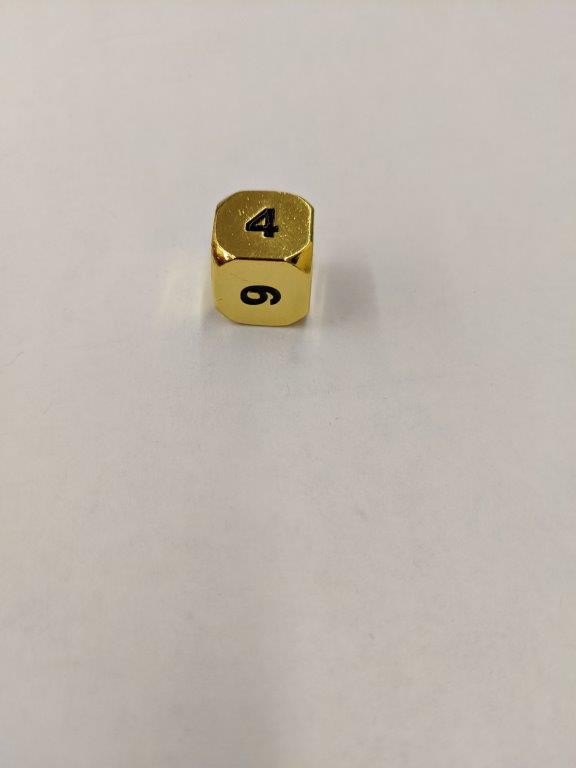d6-4: (208, 188, 313, 330)
